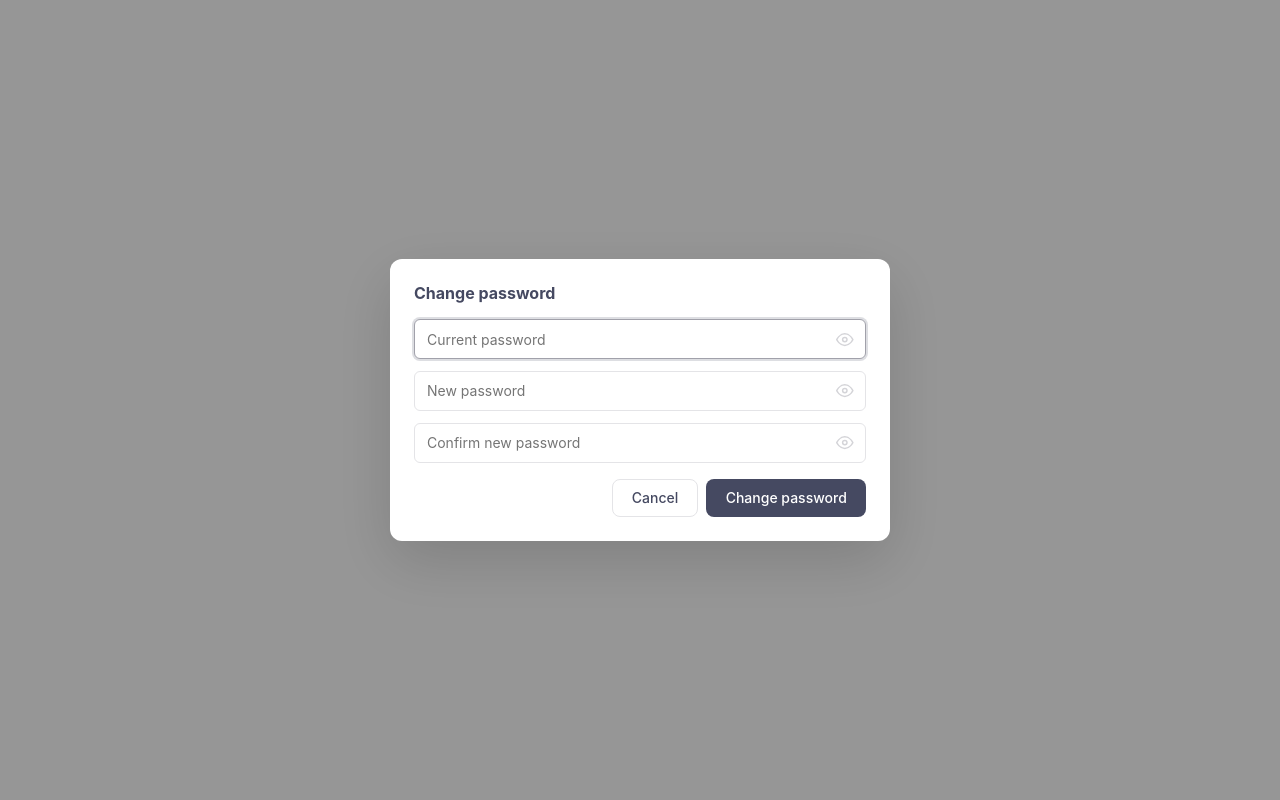
Test: ChangePasswordModal › shows the server error detail when the API returns one
Type "wrong" into the password field with placeholder "Current password" at [640, 339], box [414,319,866,359]
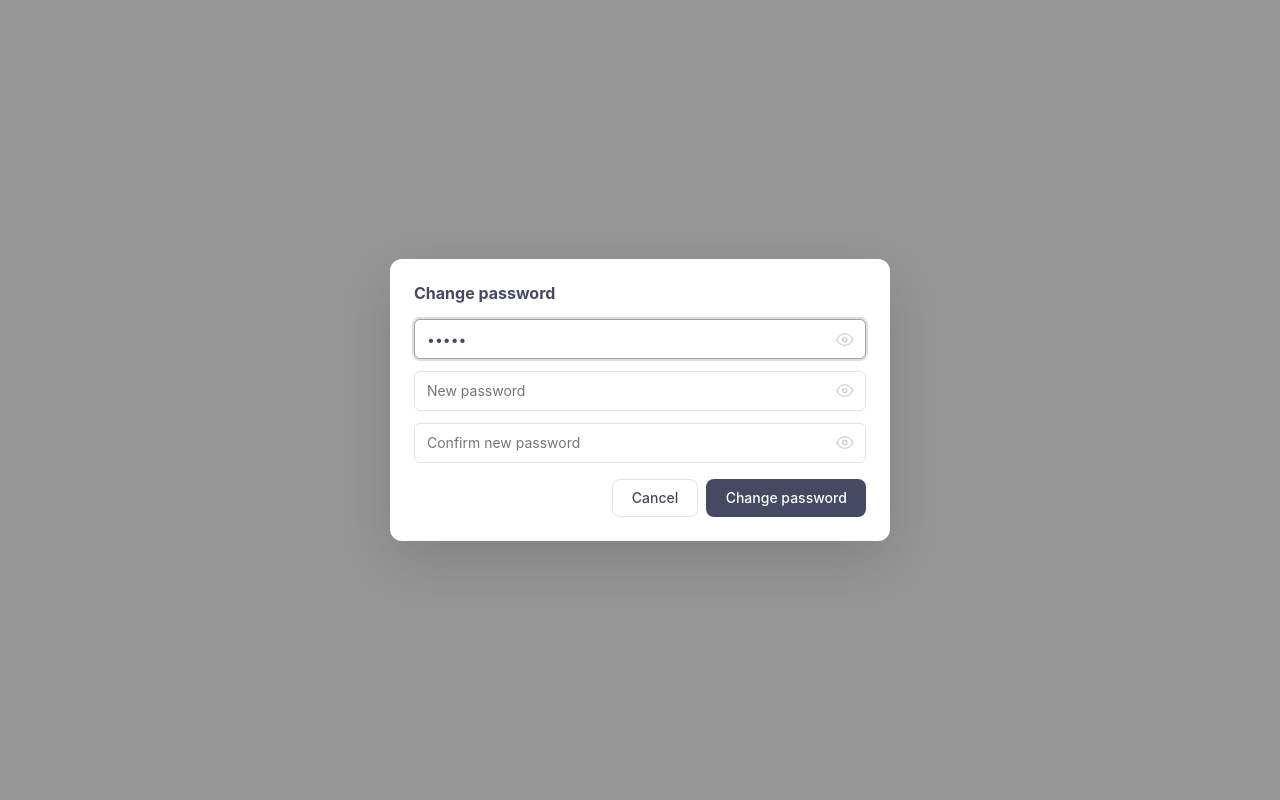
Type "newpass" into the password field with placeholder "New password" at [640, 391], box [414,371,866,411]
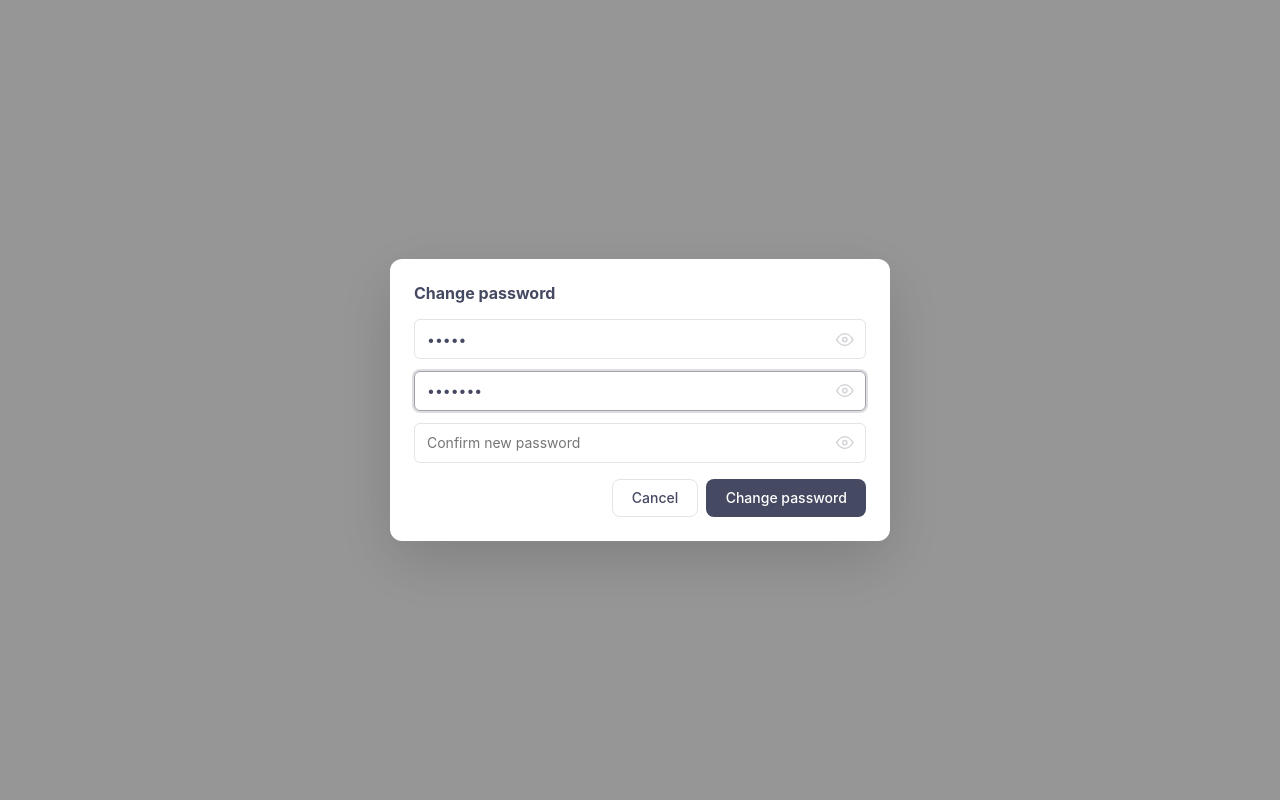
Type "newpass" into the password field with placeholder "Confirm new password" at [640, 443], box [414,423,866,463]
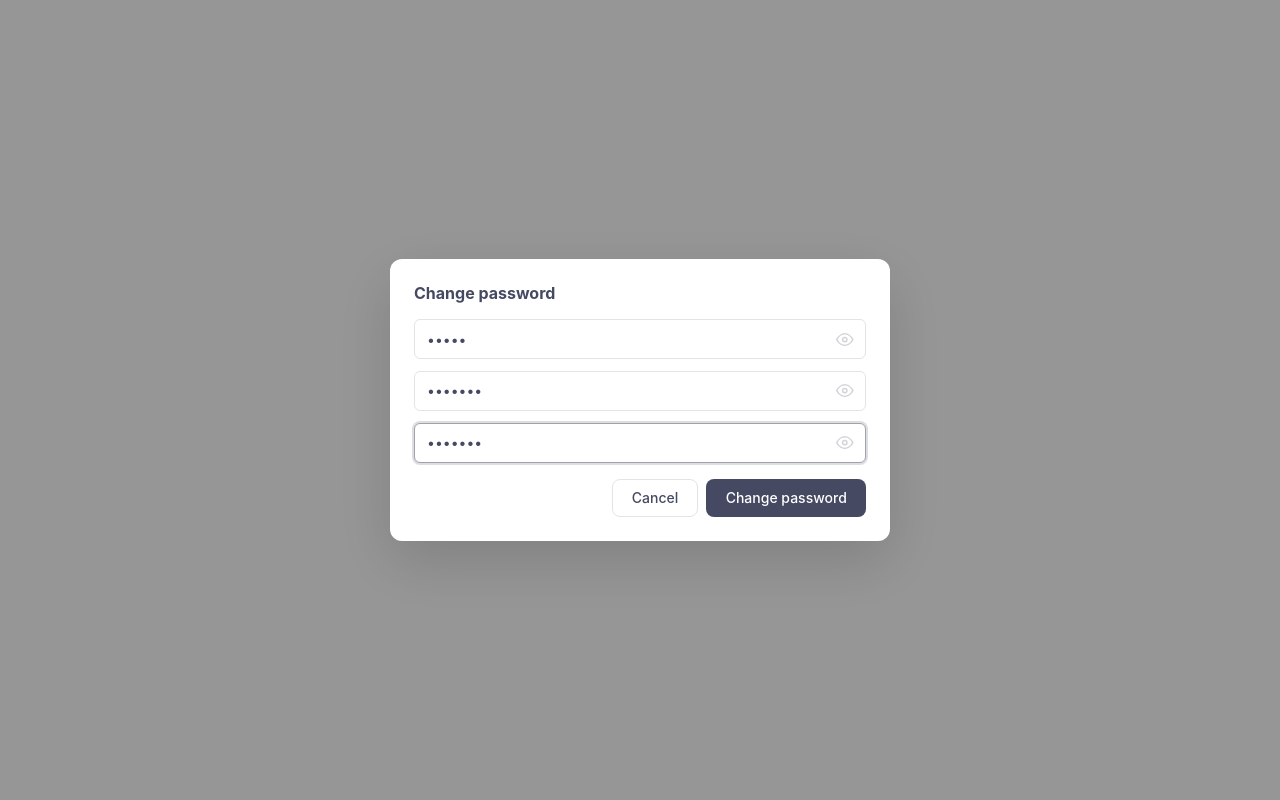
Click the button "Change password" at [786, 498], box [706,479,866,517]
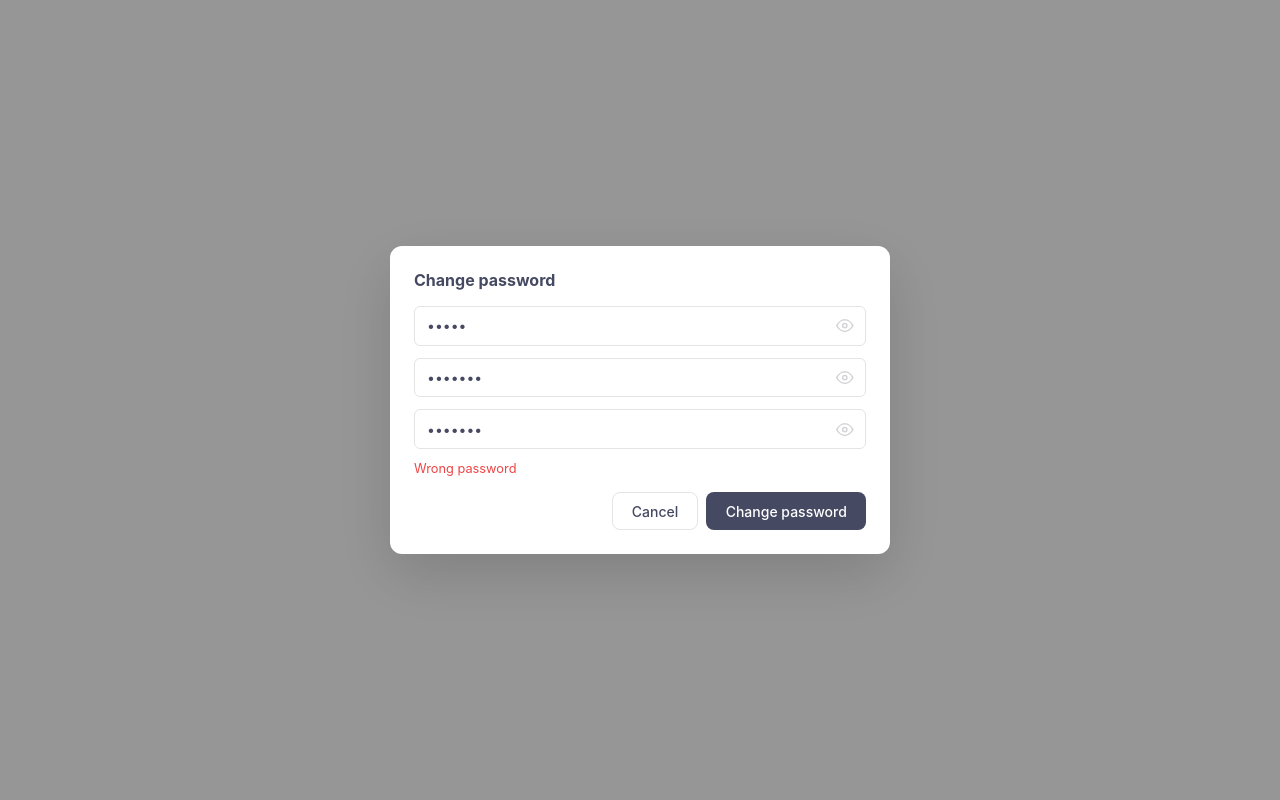
Expected: the text "Wrong password" is shown, [414,461,516,476]
